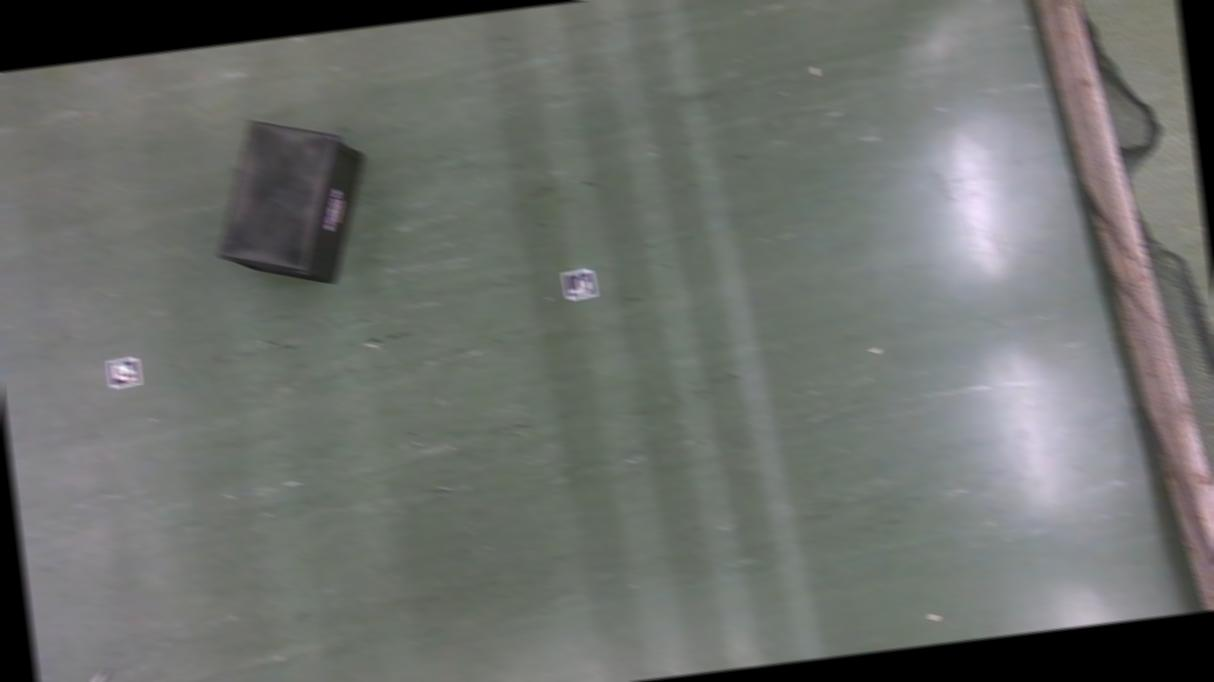probes: (61, 669, 114, 682)
rako: (202, 108, 377, 294)
